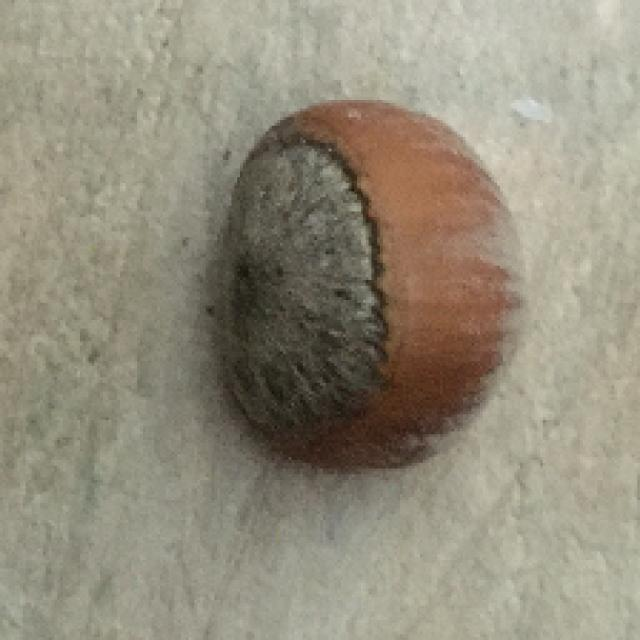qualityHazelnut: (203, 90, 536, 483)
